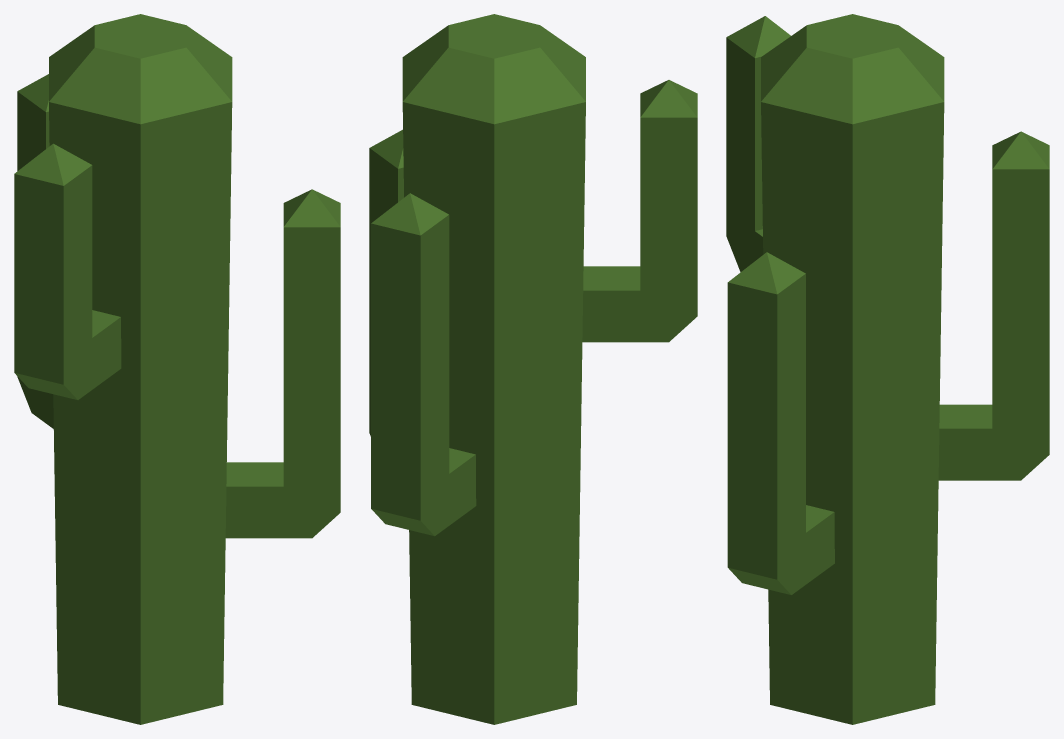
Rendered from cactus_tall.fbx.
The picture shows the model from 3 angles, left to right: view 1: azimuth 30°, elevation 25°; view 2: azimuth 150°, elevation 25°; view 3: azimuth 270°, elevation 25°; orthographic projection.
Parts seen in each view (by area): view 1: cactus_tall; view 2: cactus_tall; view 3: cactus_tall.
Boxes of the visible parts, <box> form: cactus_tall: <box>14,14,340,724</box>; cactus_tall: <box>369,14,697,724</box>; cactus_tall: <box>726,14,1049,724</box>.
Size of the model in its own units: 1.16 by 2.2 by 0.9962.
